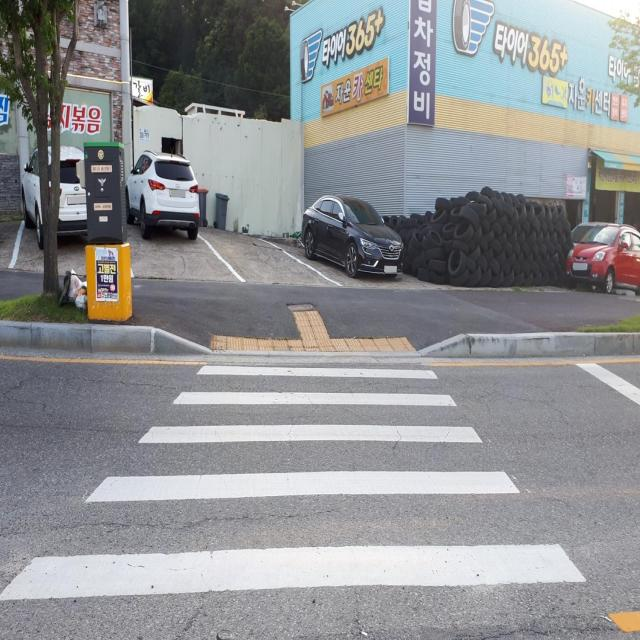횡단보도: (0, 362, 588, 603)
